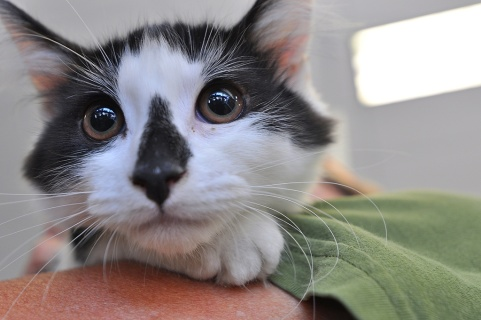Cat: (0, 0, 389, 319)
